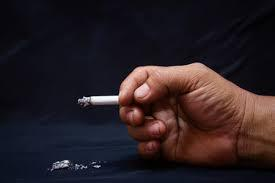smoke: (78, 96, 150, 107)
